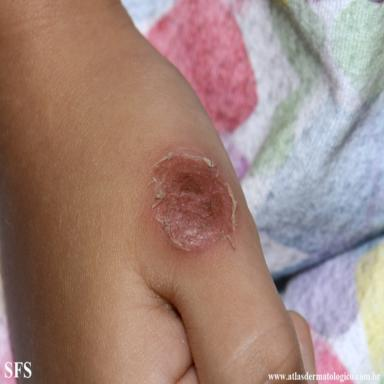Impetigo: (146, 147, 240, 256)
